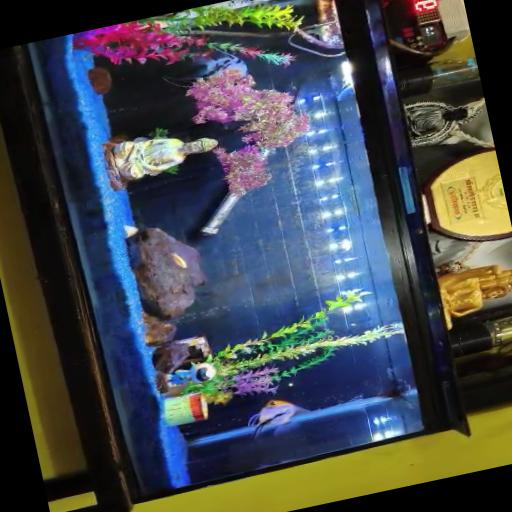Fish: (163, 48, 246, 86), (247, 399, 310, 437), (248, 399, 309, 436), (171, 253, 186, 267)
